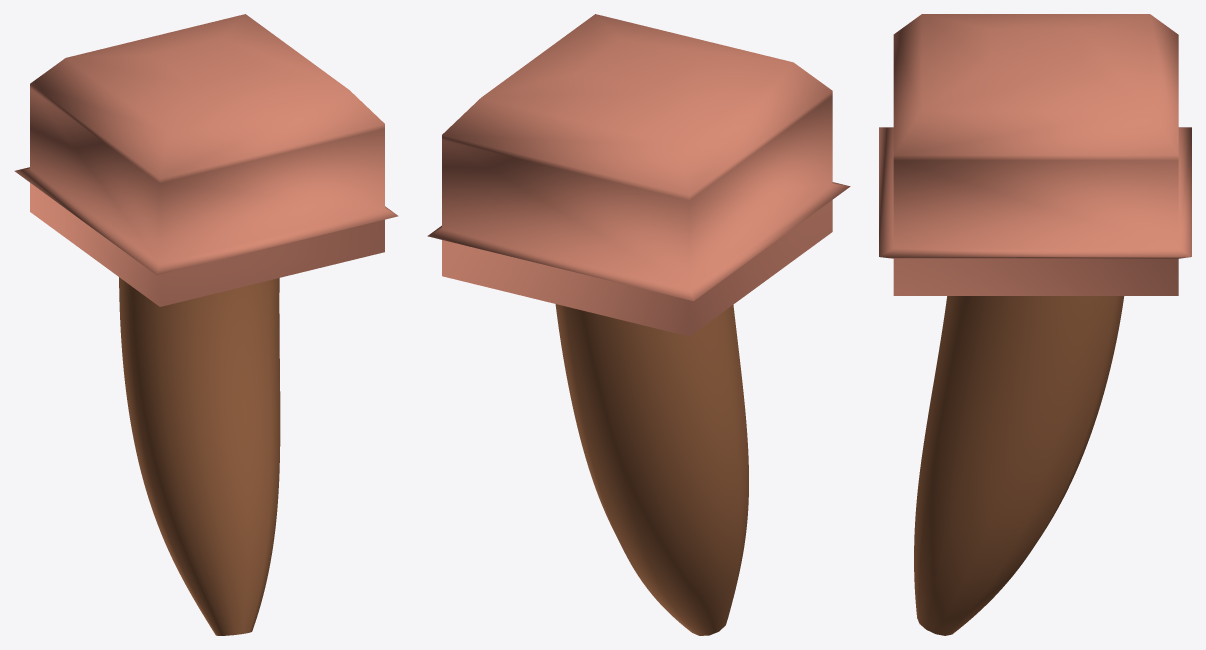
File: minikinoko.glb
3 views of the same model, side by side, from view 1: azimuth 30°, elevation 25°; view 2: azimuth 150°, elevation 25°; view 3: azimuth 270°, elevation 25° (orthographic). The views are drawn at different scales.
Parts seen in each view (by area): view 1: Cube, NurbsPath; view 2: Cube, NurbsPath; view 3: Cube, NurbsPath.
Part boxes in pixels (left/top/right/bottom): Cube: left=14, top=14, right=398, bottom=306; NurbsPath: left=119, top=277, right=280, bottom=635; Cube: left=427, top=14, right=850, bottom=336; NurbsPath: left=555, top=304, right=748, bottom=635; Cube: left=879, top=14, right=1191, bottom=295; NurbsPath: left=914, top=296, right=1124, bottom=635.
Bounding box in the file's own units: 2.15 × 4.58 × 2.2.
